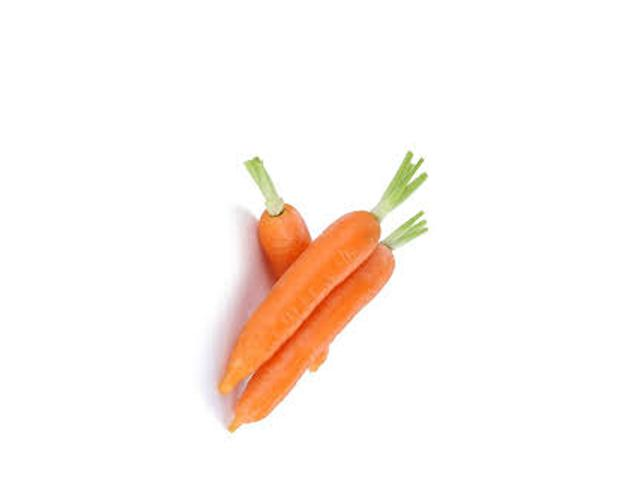carrot: (251, 166, 337, 394)
